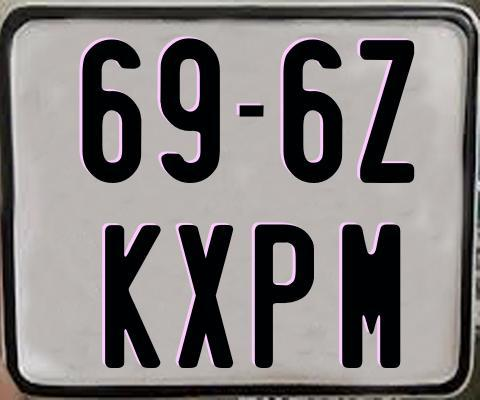6: (280, 38, 346, 183), (81, 36, 144, 181)
9: (157, 35, 219, 182)
K: (104, 223, 163, 371)
M: (342, 223, 401, 372)
P: (253, 224, 315, 369)
X: (177, 223, 232, 368)
Z: (357, 40, 415, 187)
